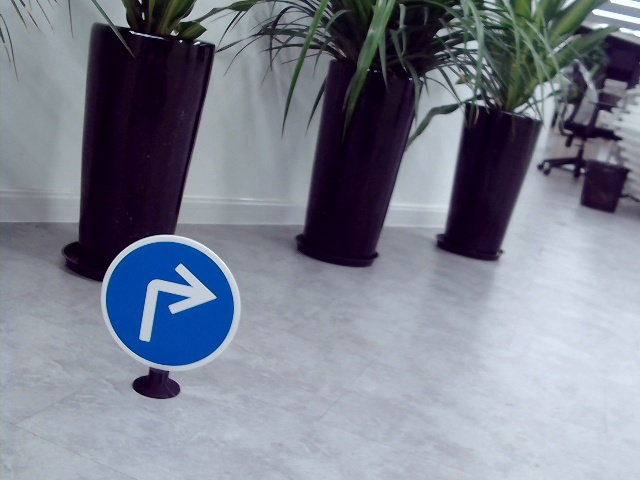turn_right: (139, 257, 213, 349)
